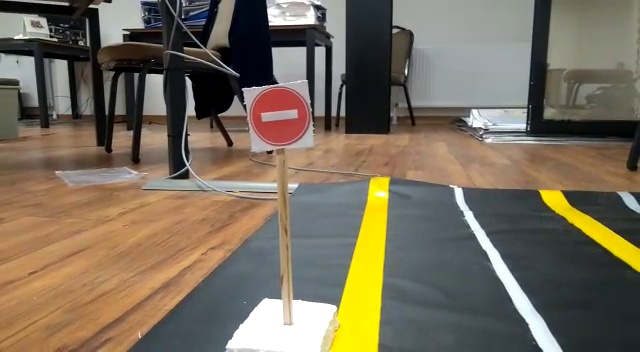girisi_olmayan_yol: (246, 82, 318, 150)
